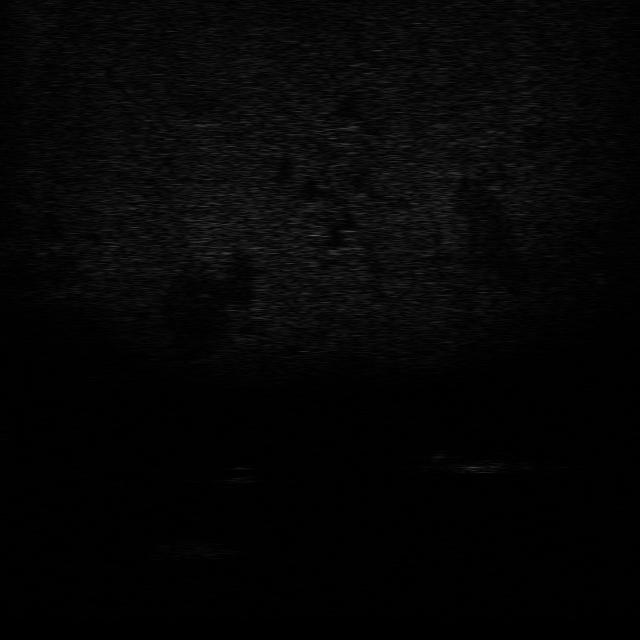ball: (210, 461, 260, 487)
circle cage: (154, 530, 238, 561)
human body: (418, 447, 534, 477)
